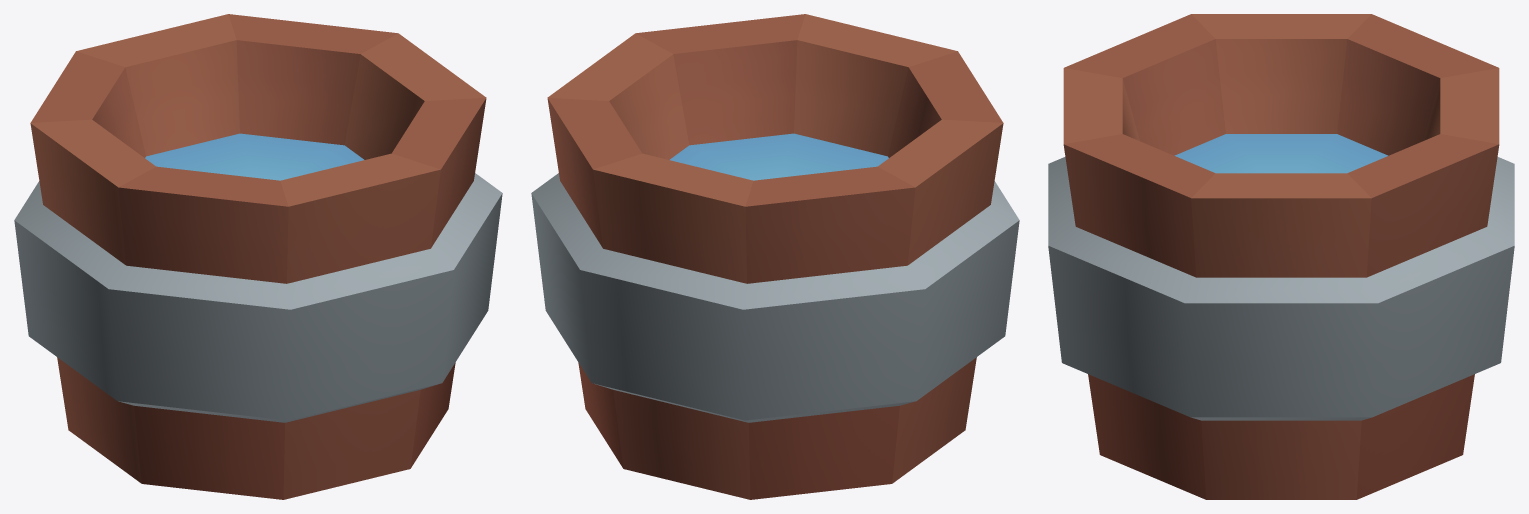
Rendered from d_kaykit_seau.glb.
The picture shows the model from 3 angles, left to right: view 1: azimuth 30°, elevation 25°; view 2: azimuth 150°, elevation 25°; view 3: azimuth 270°, elevation 25°; orthographic projection. The views are drawn at different scales.
Visible parts, largest first — view 1: d_kaykit_seau; view 2: d_kaykit_seau; view 3: d_kaykit_seau.
Boxes of the visible parts, x1,y1,x2,y2 form: d_kaykit_seau: (14,14,502,499); d_kaykit_seau: (531,14,1019,499); d_kaykit_seau: (1048,14,1514,499).
Size of the model in its own units: 0.14 by 0.105 by 0.14.
Materials: 1 (1 with a texture image).
